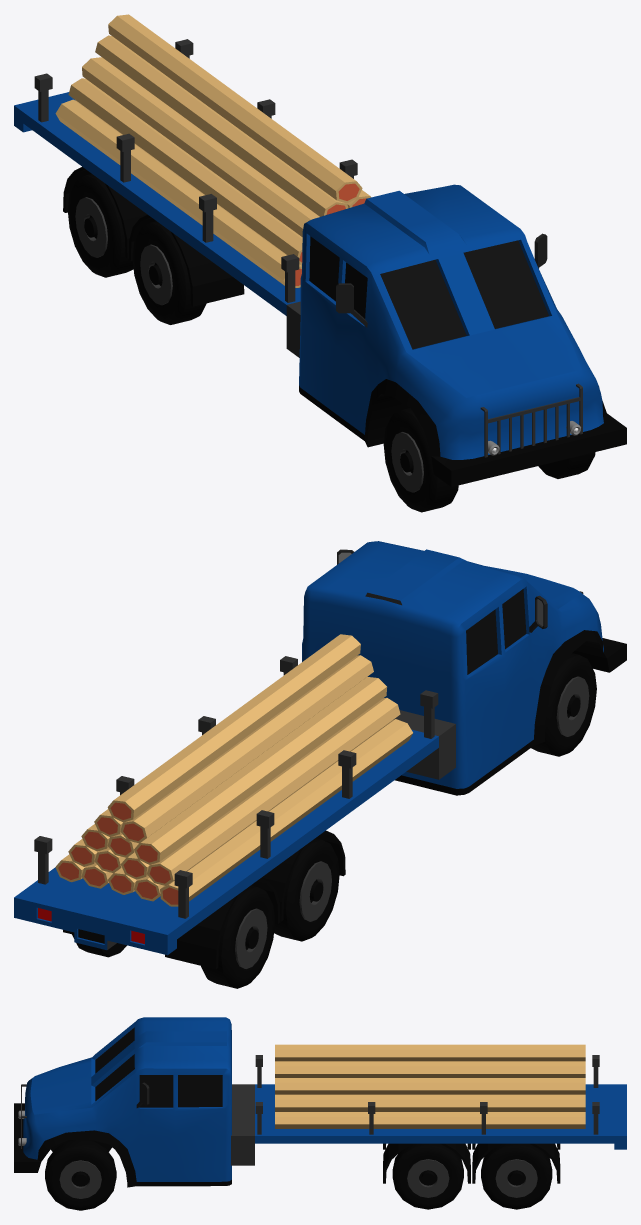
The model's file is vehicle_7.fbx.
The picture shows the model from 3 angles, top to bottom: view 1: azimuth 30°, elevation 25°; view 2: azimuth 150°, elevation 25°; view 3: azimuth 270°, elevation 25°; orthographic projection. The views are drawn at different scales.
Parts seen in each view (by area): view 1: Truck, Wooden, Trolley, Tire_4, Tire_6, Tire_2, Tire_1; view 2: Truck, Wooden, Trolley, Tire_6, Tire_4, Tire_2; view 3: Truck, Wooden, Trolley, Tire_1, Tire_5, Tire_3.
Part boxes in pixels (x1,y1,x2,y2): Truck: (299, 184, 626, 486); Wooden: (55, 14, 371, 287); Trolley: (14, 39, 357, 357); Tire_4: (132, 221, 206, 324); Tire_6: (67, 174, 133, 277); Tire_2: (383, 408, 458, 512); Tire_1: (538, 452, 595, 478); Truck: (302, 541, 626, 795); Wooden: (55, 634, 412, 906); Trolley: (14, 656, 455, 969); Tire_6: (201, 885, 275, 988); Tire_4: (274, 838, 339, 941); Tire_2: (531, 653, 596, 756); Truck: (14, 1017, 231, 1187); Wooden: (275, 1044, 585, 1128); Trolley: (231, 1055, 626, 1183); Tire_1: (45, 1140, 116, 1210); Tire_5: (481, 1143, 552, 1209); Tire_3: (392, 1143, 463, 1209).
Size of the model in its own units: 172 by 169 by 635.
